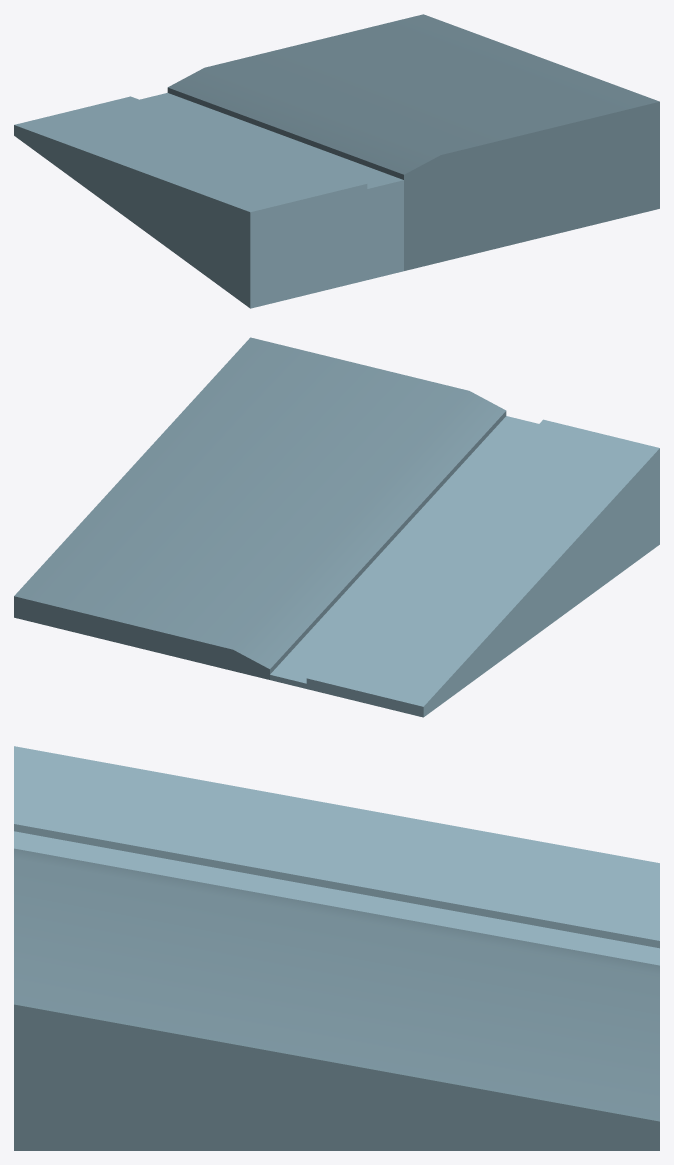
The model's file is roadEdgeSlope.fbx.
3 renders of one model, top to bottom at view 1: azimuth 30°, elevation 25°; view 2: azimuth 150°, elevation 25°; view 3: azimuth 270°, elevation 25°, orthographic. The views are drawn at different scales.
Parts seen in each view (by area): view 1: roadEdgeSlope; view 2: roadEdgeSlope; view 3: roadEdgeSlope.
Part boxes in pixels (box(x1,y1,x2,y2)): roadEdgeSlope: box(14, 14, 659, 308); roadEdgeSlope: box(14, 337, 659, 717); roadEdgeSlope: box(14, 746, 659, 1150).
Size of the model in its own units: 10 by 2.5 by 10.
